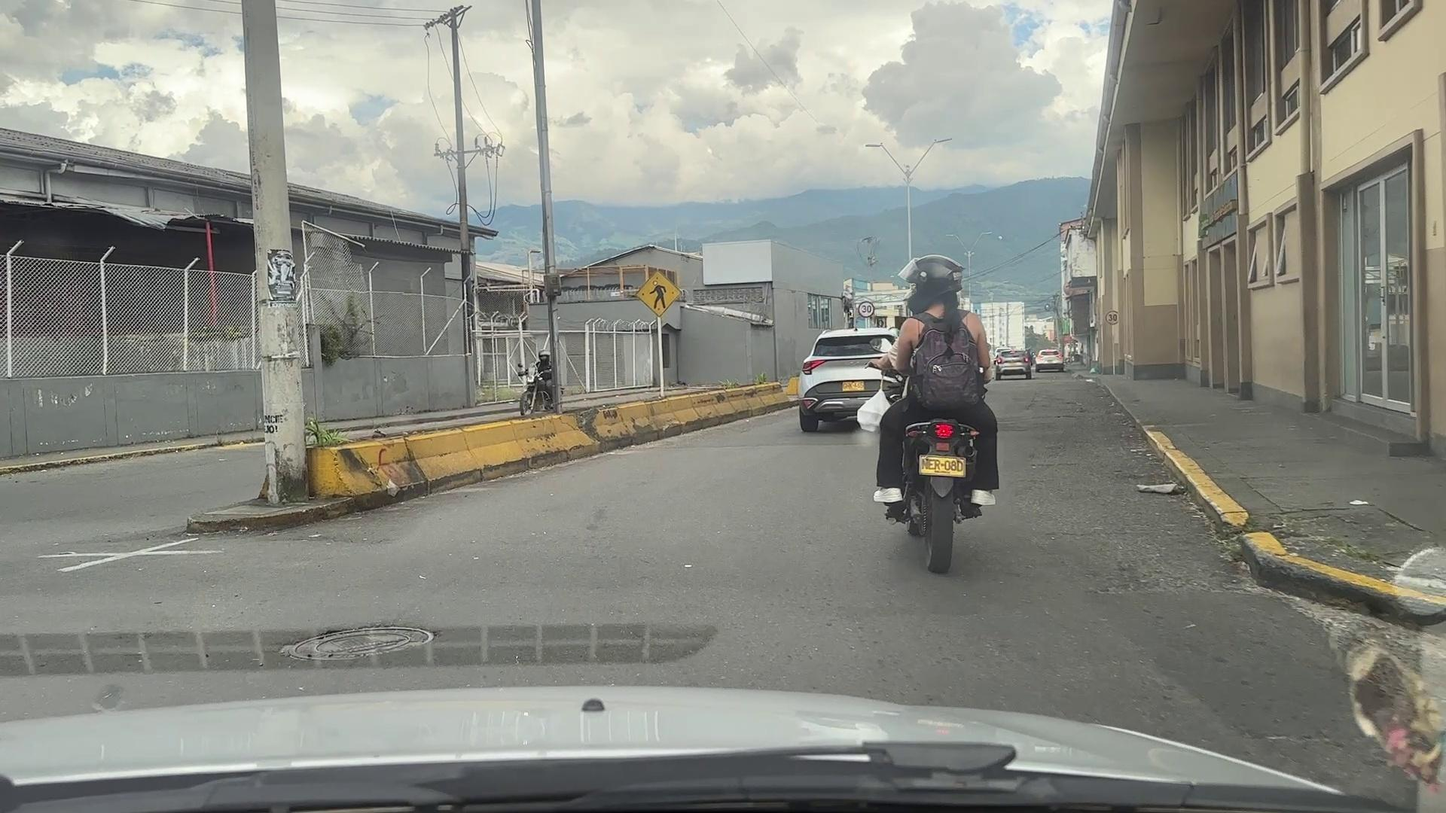registro: (280, 626, 435, 660)
